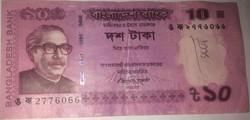10 taka: (2, 1, 249, 112)
